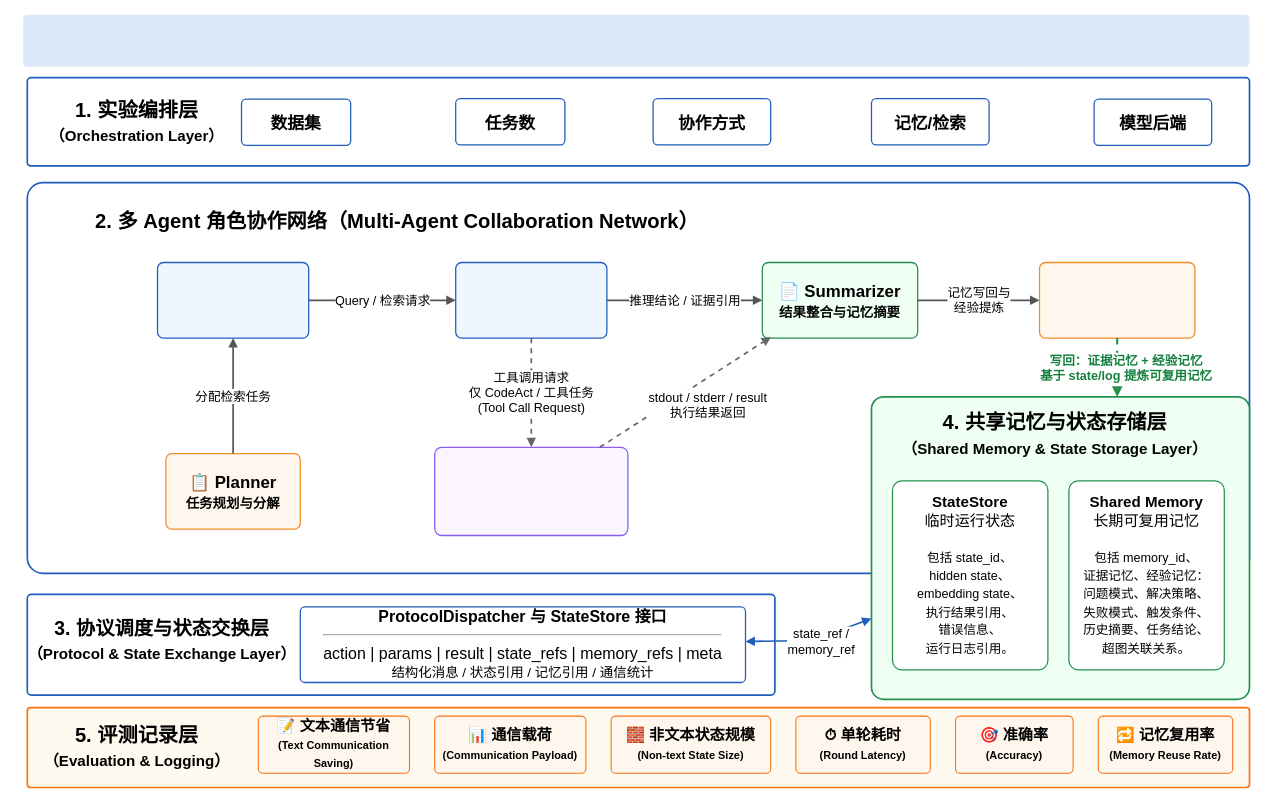
Some shapes in this 1272 by 802 pixel diagram are drawn without their labels. Here are the shapes that lost their labels. From the top down, the centre of each, then its label:
At (x=636, y=40): "多智能体系统架构图（Optimized Multi-Agent System Architecture）".
At (x=232, y=299): "🔍 Retriever 检索与证据获取".
At (x=531, y=299): "🧠 Reasoner 推理与决策".
At (x=1116, y=299): "🛢 MemoryManager 记忆写回与经验提炼".
At (x=531, y=491): "🛠 Executor（可选） 工具执行单元 仅 CodeAct / 工具任务启用".
